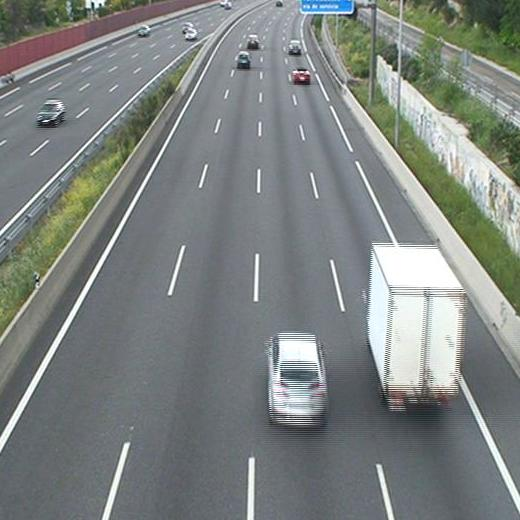car: (263, 332, 329, 429), (293, 67, 311, 85), (237, 51, 250, 70), (288, 40, 302, 55), (247, 34, 260, 49)
small-truck: (365, 243, 467, 418)
